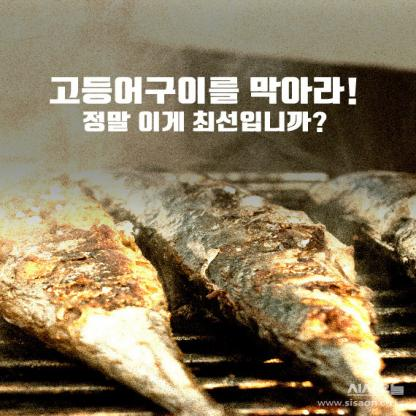Peixe: (103, 148, 416, 416), (0, 150, 214, 406)
